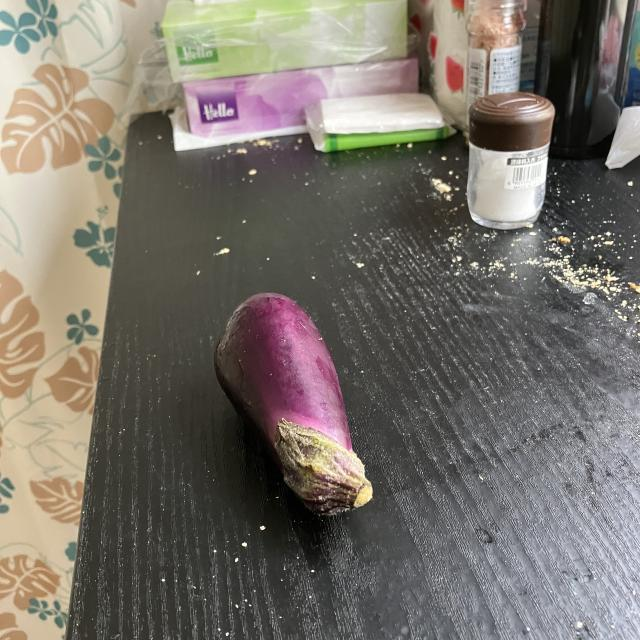eggplant: (212, 290, 378, 518)
